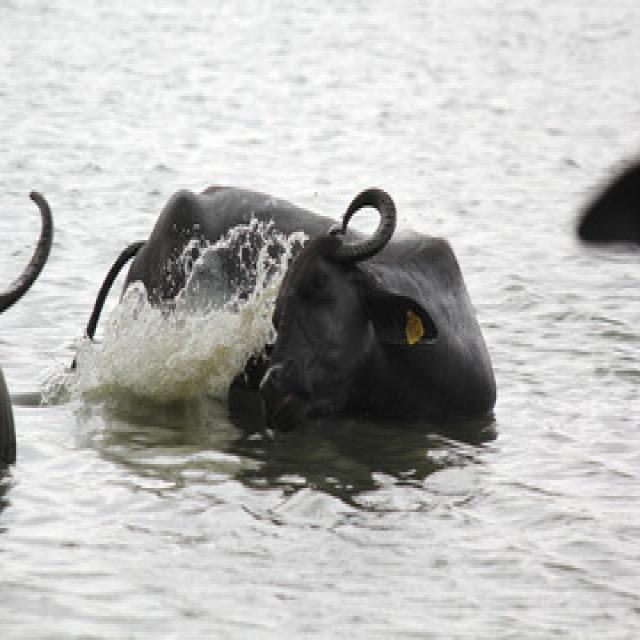Buffalo: (73, 170, 497, 441)
